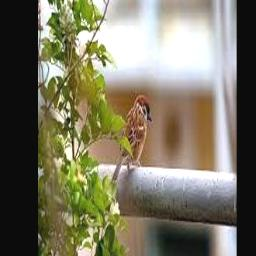Sparrow: (112, 94, 151, 180)
